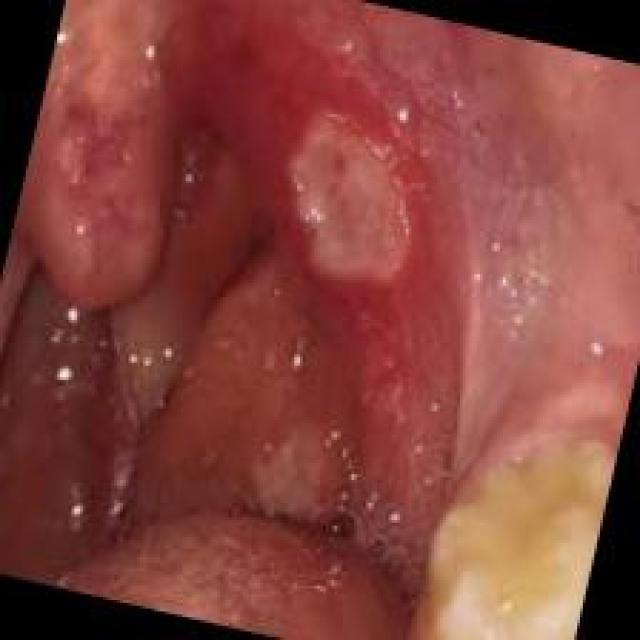processing_area: (0, 0, 637, 637)
ulcer-detection: (263, 86, 443, 312)
